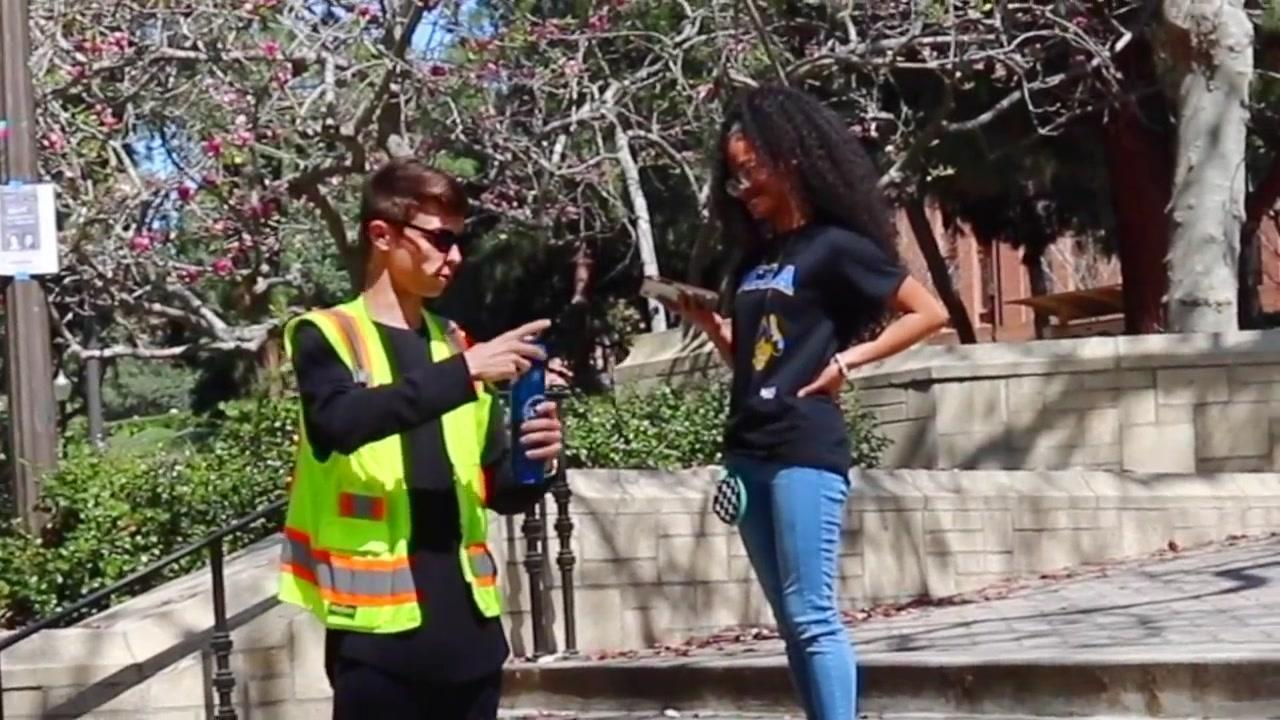Glass: (271, 295, 482, 638)
